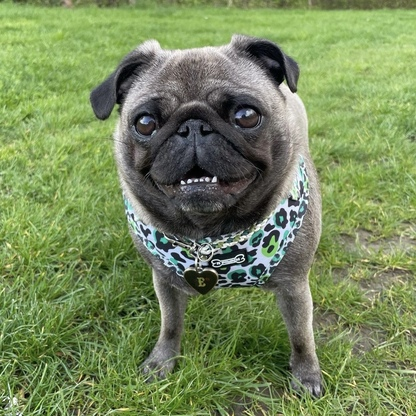Pug: (85, 27, 328, 401)
